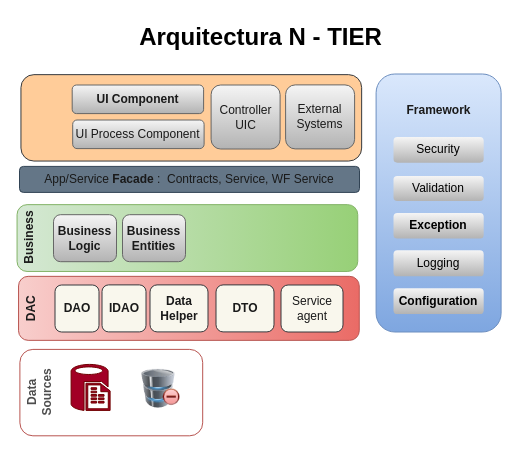
The diagram is 520 pixels wide and 453 high, and some of its shapes have lost their labels. Each missing label, with the centre of its shape:
"database" goes at point (161, 388).
"SQLITE" goes at point (90, 386).
"User Interface" goes at point (191, 117).
